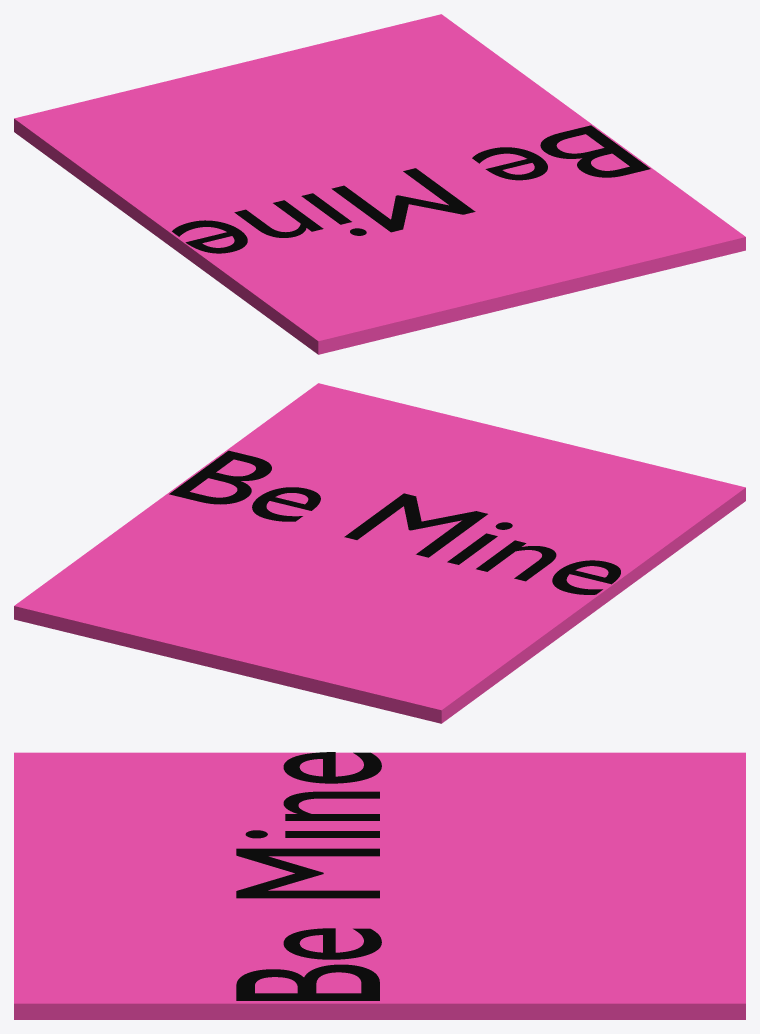
The model's file is V Day Card Cosmetic 2.fbx.
The picture shows the model from 3 angles, top to bottom: view 1: azimuth 30°, elevation 25°; view 2: azimuth 150°, elevation 25°; view 3: azimuth 270°, elevation 25°; orthographic projection. The views are drawn at different scales.
Parts seen in each view (by area): view 1: Cube, Text; view 2: Cube, Text; view 3: Cube, Text.
Boxes of the visible parts, x1,y1,x2,y2 form: Cube: (14,14,745,354); Text: (172,125,650,253); Cube: (14,383,745,723); Text: (169,450,620,594); Cube: (14,752,745,1019); Text: (236,752,381,1000).
Bounding box in the file's own units: 123 × 3.96 × 151.
